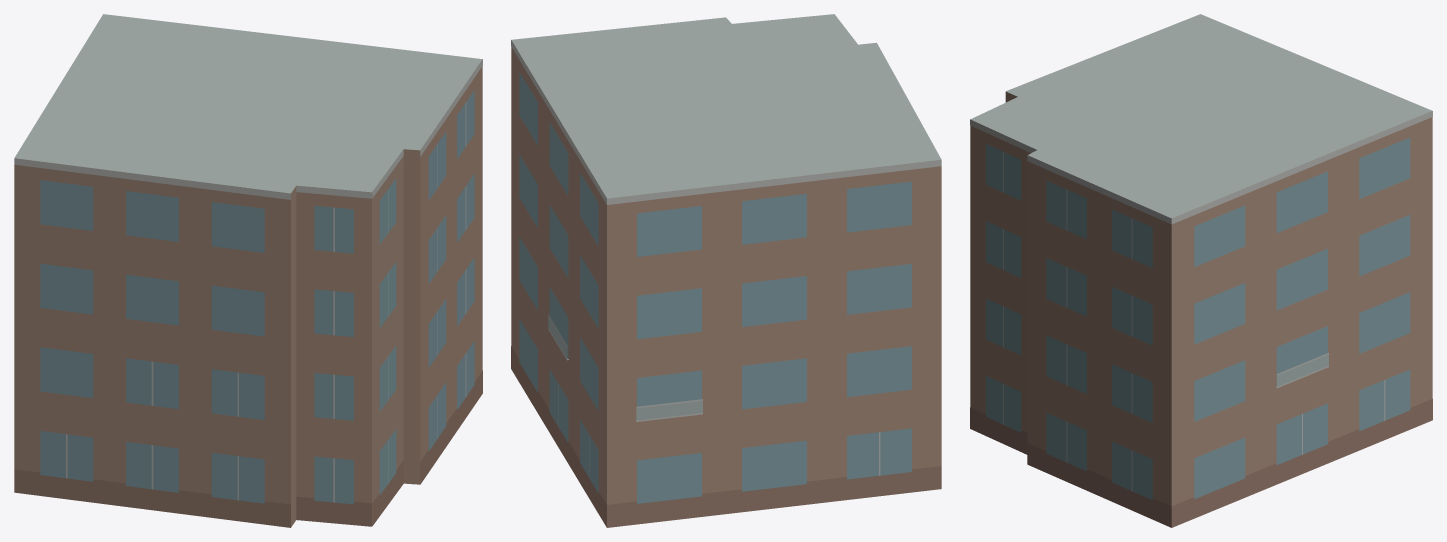
Rendered from survey-upis-32497754.glb.
The picture shows the model from 3 angles, left to right: view 1: azimuth 30°, elevation 25°; view 2: azimuth 150°, elevation 25°; view 3: azimuth 270°, elevation 25°; orthographic projection. The views are drawn at different scales.
Parts seen in each view (by area): view 1: survey-upis-32497754.tmp; view 2: survey-upis-32497754.tmp; view 3: survey-upis-32497754.tmp.
Part boxes in pixels (box(x1,y1,x2,y2)): survey-upis-32497754.tmp: box(14, 14, 482, 527); survey-upis-32497754.tmp: box(511, 14, 941, 527); survey-upis-32497754.tmp: box(970, 14, 1432, 527).
Size of the model in its own units: 17.87 by 12.6 by 17.08.
